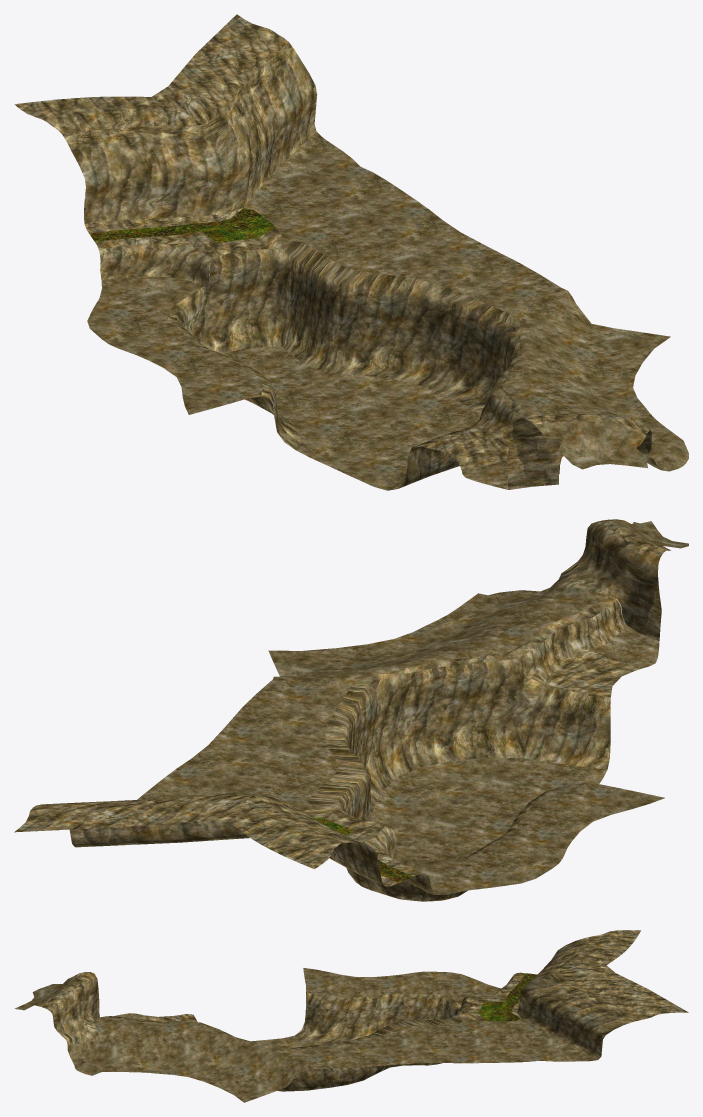
The model's file is RM_PLAYSURFACE_FINAL_OBJECT07.fbx.
3 views of the same model, one above another, from view 1: azimuth 30°, elevation 25°; view 2: azimuth 150°, elevation 25°; view 3: azimuth 270°, elevation 25° (orthographic). The views are drawn at different scales.
Visible parts, largest first — view 1: RM_PLAYSURFACE_FINAL_OBJECT07; view 2: RM_PLAYSURFACE_FINAL_OBJECT07; view 3: RM_PLAYSURFACE_FINAL_OBJECT07.
Part boxes in pixels (bbox=[...]): RM_PLAYSURFACE_FINAL_OBJECT07: bbox=[14, 14, 688, 490]; RM_PLAYSURFACE_FINAL_OBJECT07: bbox=[14, 519, 688, 901]; RM_PLAYSURFACE_FINAL_OBJECT07: bbox=[14, 930, 688, 1102].
Bounding box in the file's own units: 312796 × 107551 × 644455.
Materials: 5 (5 with a texture image).
